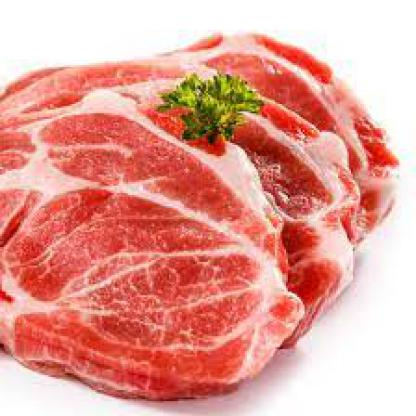beef: (9, 56, 394, 388)
